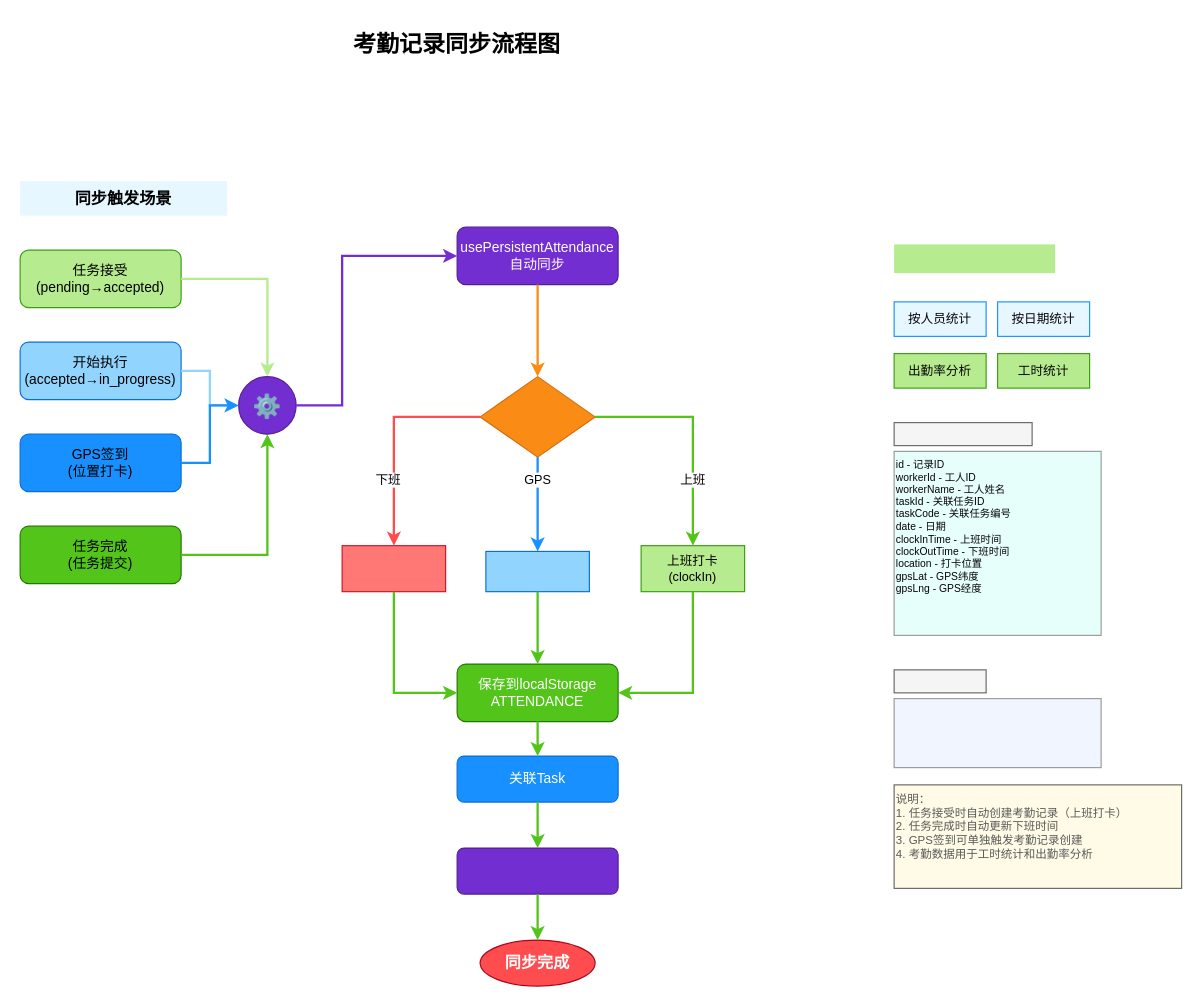
Some shapes in this 1202 by 1006 pixel diagram are drawn without their labels. The shapes that lost their labels are listed below. From the top down, each one's centre as x and y in pixels, then its label:
At point 974,258: "考勤记录展示".
At point 537,416: "考勤类型？".
At point 962,433: "Attendance字段：".
At point 393,568: "下班打卡 (clockOut)".
At point 537,571: "GPS签到".
At point 939,681: "涉及组件：".
At point 997,732: "MyTasksPage TasksPage usePersistentAttendance useTasks".
At point 537,870: "记录操作日志".
